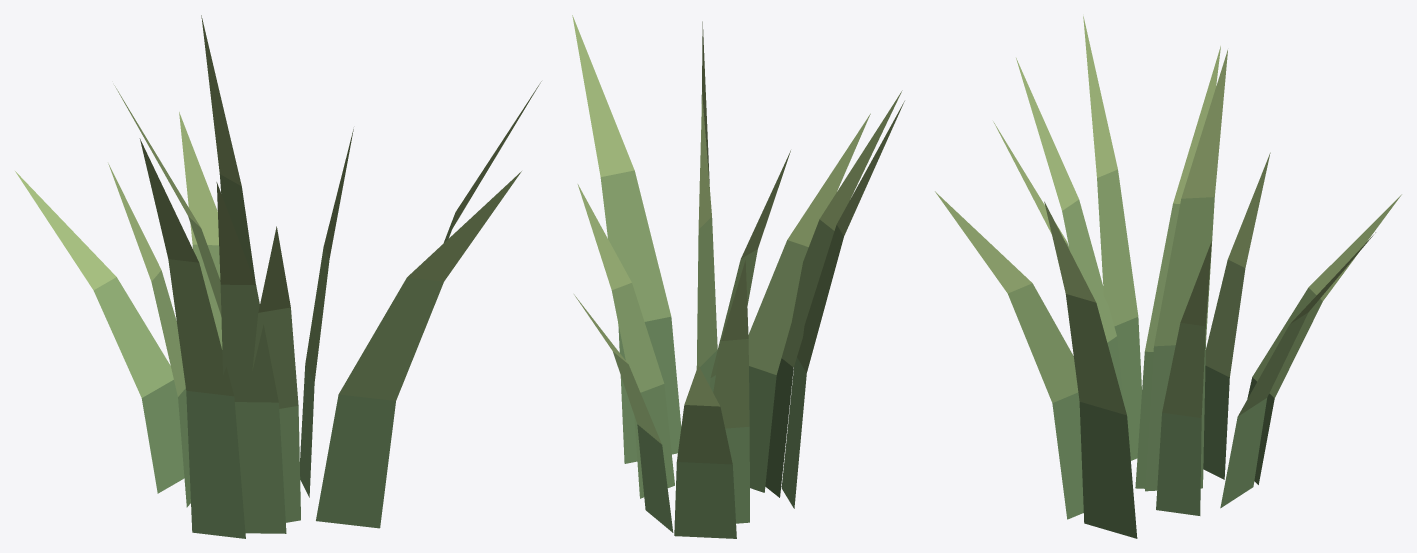
Rendered from pilot_tuft.glb.
3 views of the same model, side by side, from view 1: azimuth 30°, elevation 25°; view 2: azimuth 150°, elevation 25°; view 3: azimuth 270°, elevation 25° (orthographic). The views are drawn at different scales.
Visible parts, largest first — view 1: pilot_tuft; view 2: pilot_tuft; view 3: pilot_tuft.
Boxes of the visible parts, <box> form: pilot_tuft: <box>15,15,541,538</box>; pilot_tuft: <box>572,15,904,538</box>; pilot_tuft: <box>935,16,1401,538</box>.
Size of the model in its own units: 0.3503 by 0.4129 by 0.4067.
